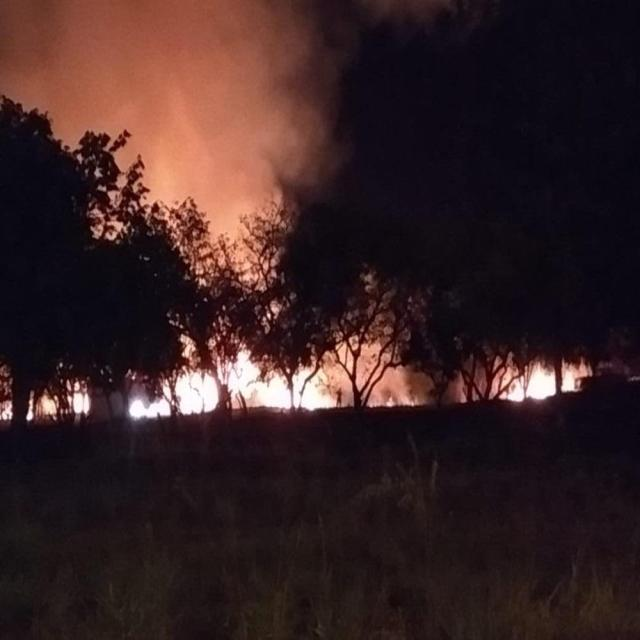Fire: (130, 353, 324, 418), (509, 361, 589, 404)
